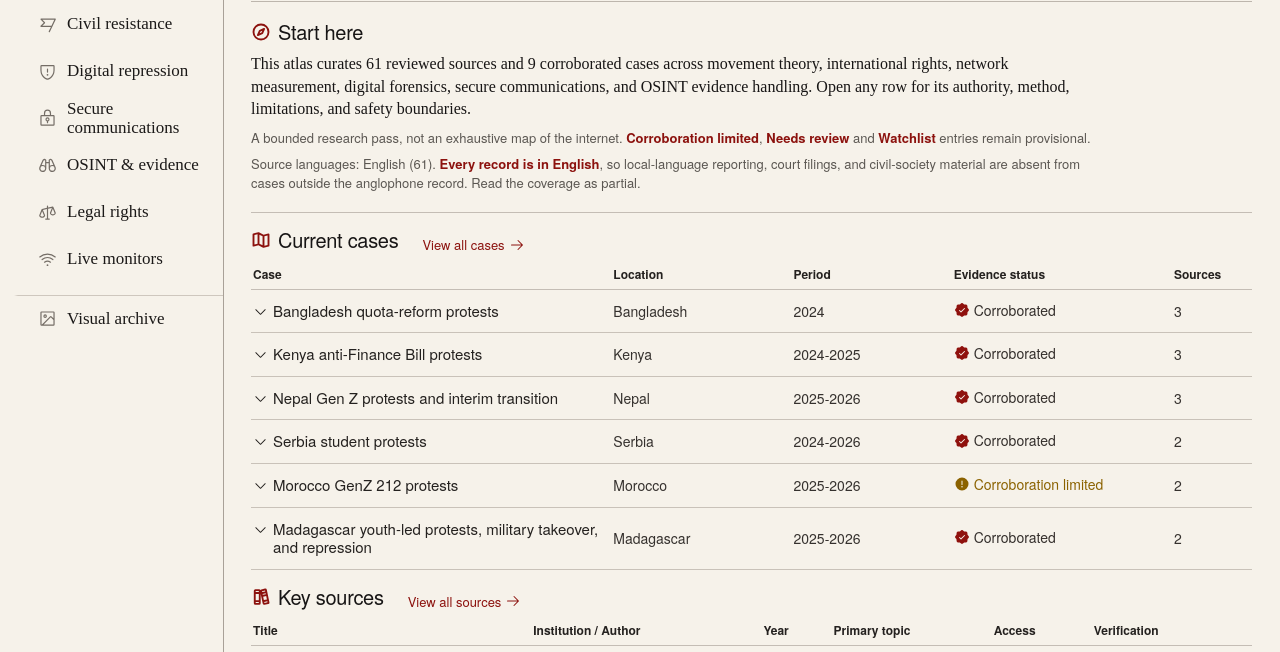
evidence disclosure › row toggles expose their detail region to assistive technology
(page scrolled)
Click the button "Bangladesh quota-reform protests". click: (376, 311)
box: top-left (253, 298), bottom-right (499, 324)
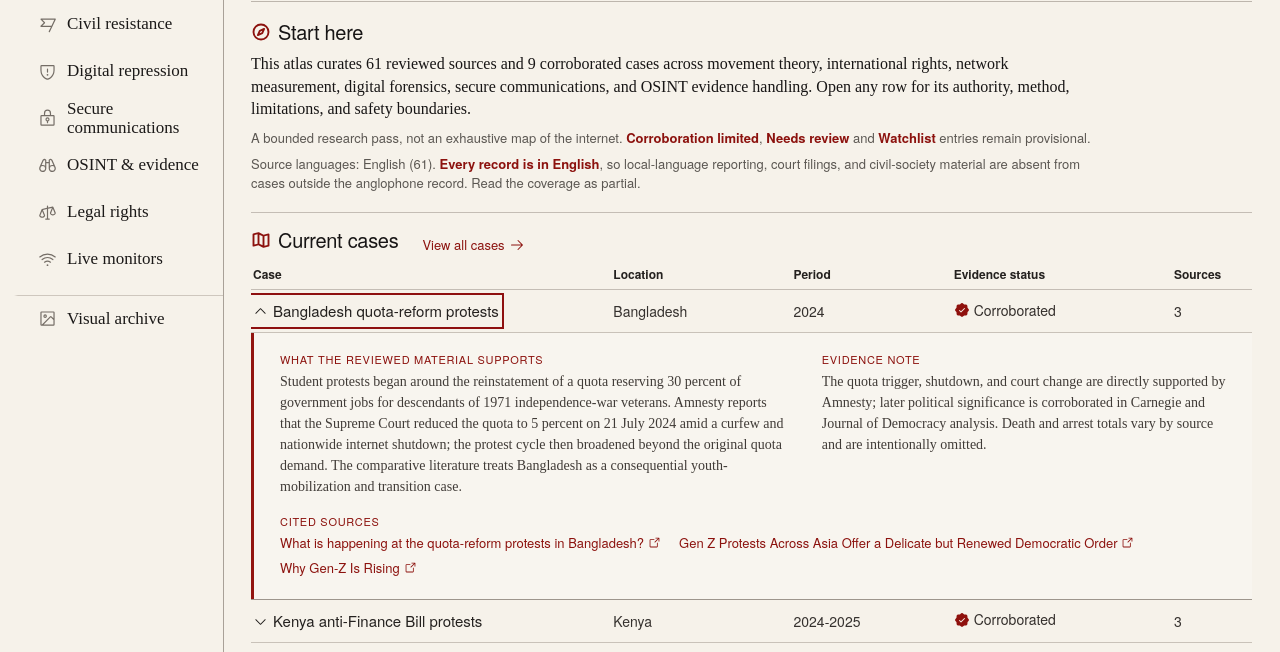
Now the button "Bangladesh quota-reform protests" is expanded, box top-left (253, 298), bottom-right (499, 324)
